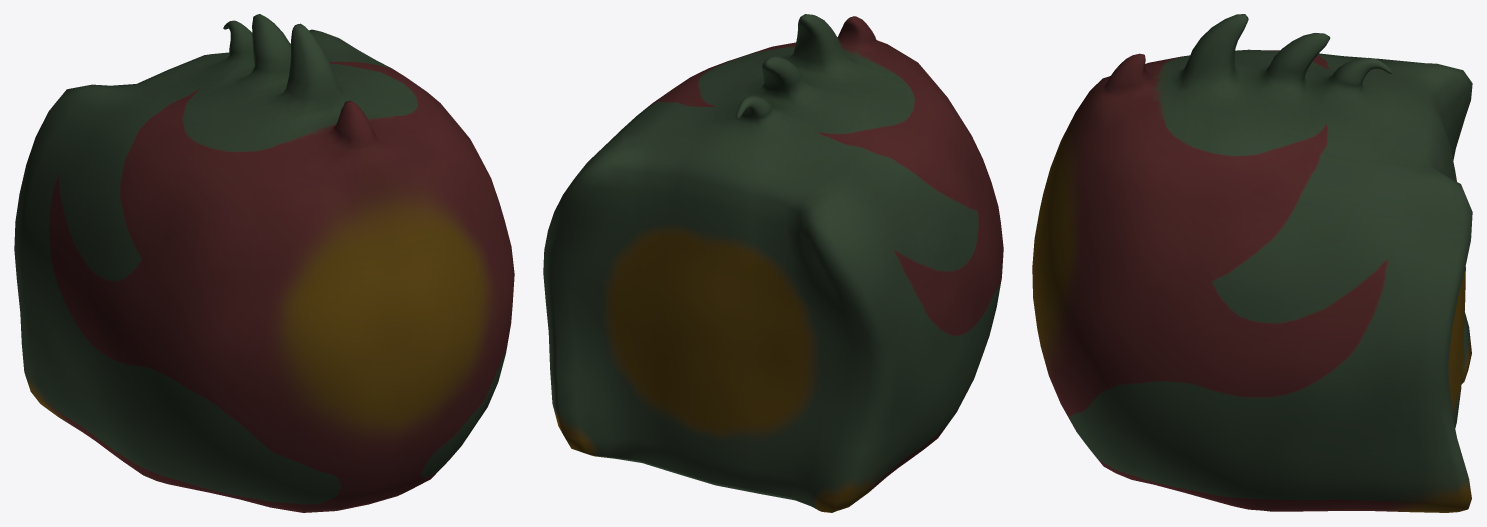
Rendered from meanderBody00.fbx.
3 views of the same model, side by side, from view 1: azimuth 30°, elevation 25°; view 2: azimuth 150°, elevation 25°; view 3: azimuth 270°, elevation 25° (orthographic). The views are drawn at different scales.
Parts seen in each view (by area): view 1: body; view 2: body; view 3: body.
Boxes of the visible parts, x1,y1,x2,y2 form: body: (14, 14, 514, 512); body: (543, 14, 1003, 512); body: (1032, 14, 1472, 512).
Bounding box in the file's own units: 69.85 × 76.53 × 69.31.
2 materials, 2 textured.
